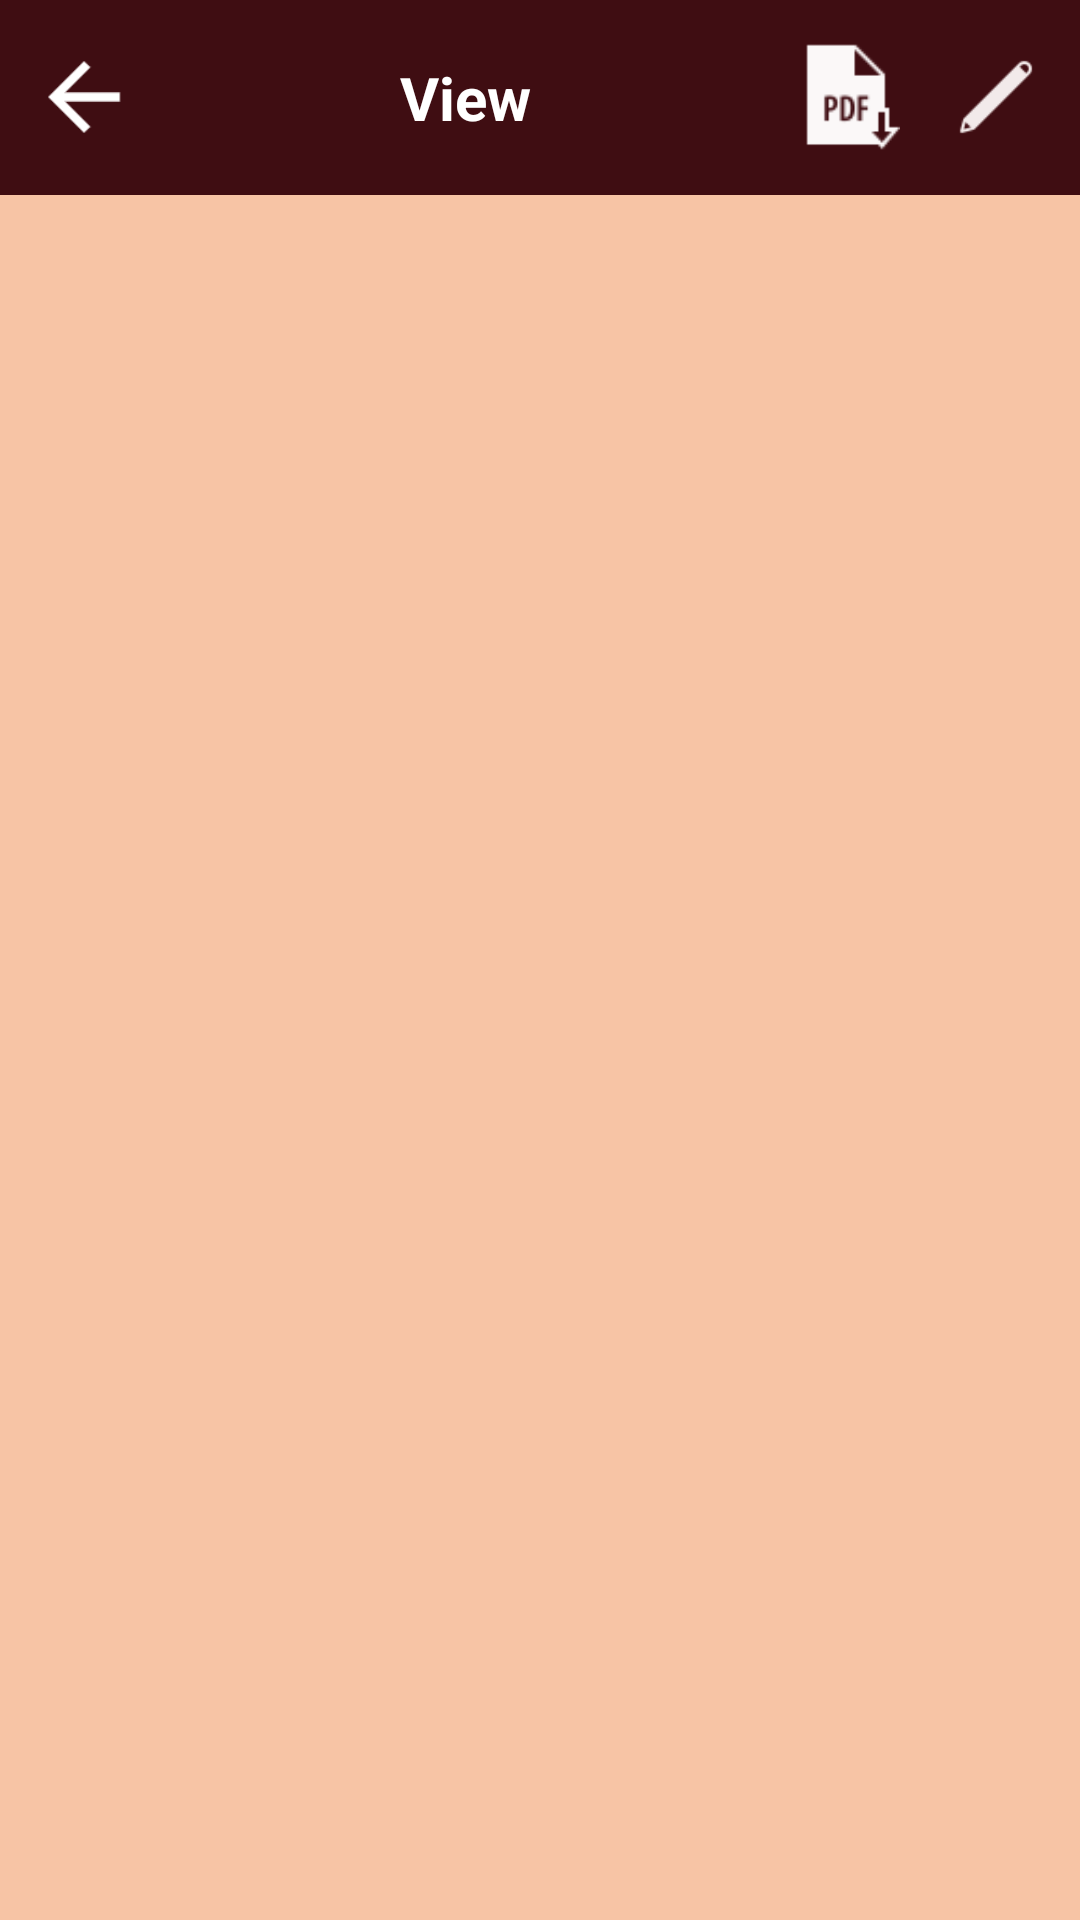

Icon bounding boxes for this 1080w x 1920h phone screenshot, format (x1, y1, x2, y2):
Back: (48, 61, 121, 133)
Edit: (960, 61, 1032, 133)
Export pdf: (806, 44, 900, 150)
